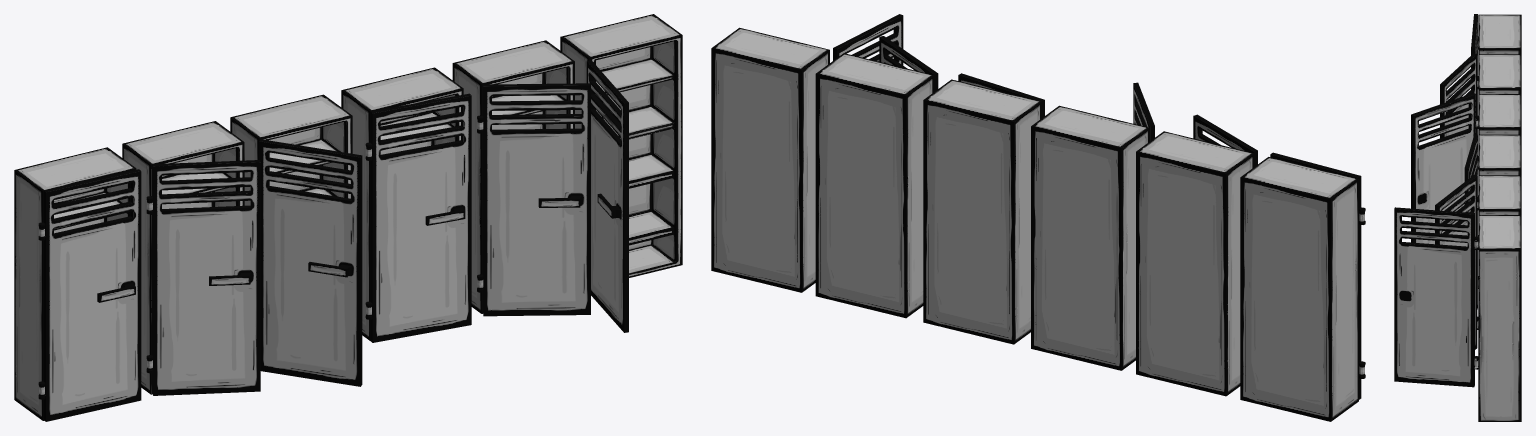
File: space_lockers.fbx
The picture shows the model from 3 angles, left to right: view 1: azimuth 30°, elevation 25°; view 2: azimuth 150°, elevation 25°; view 3: azimuth 270°, elevation 25°; orthographic projection. The views are drawn at different scales.
Parts seen in each view (by area): view 1: Cube.005, Cube.004, Cube.001, Cube.003, Cube.002, Cube.006; view 2: Cube.005, Cube.004, Cube.006, Cube.003, Cube.001, Cube.002; view 3: Cube.006, Cube.002, Cube.004, Cube.001, Cube.003, Cube.005.
Part boxes in pixels (<box>): Cube.005: <box>14,147,141,421</box>; Cube.004: <box>452,40,590,316</box>; Cube.001: <box>122,121,260,395</box>; Cube.003: <box>341,67,471,342</box>; Cube.002: <box>230,94,362,386</box>; Cube.006: <box>560,14,682,332</box>; Cube.005: <box>1240,152,1365,421</box>; Cube.004: <box>815,36,938,318</box>; Cube.006: <box>711,14,903,292</box>; Cube.003: <box>923,73,1044,344</box>; Cube.001: <box>1136,114,1257,396</box>; Cube.002: <box>1031,82,1154,370</box>; Cube.006: <box>1394,207,1521,421</box>; Cube.002: <box>1411,93,1521,244</box>; Cube.004: <box>1435,175,1521,349</box>; Cube.001: <box>1440,53,1521,196</box>; Cube.003: <box>1464,134,1521,309</box>; Cube.005: <box>1471,14,1521,134</box>.
Size of the model in its own units: 1381 by 472 by 314.
